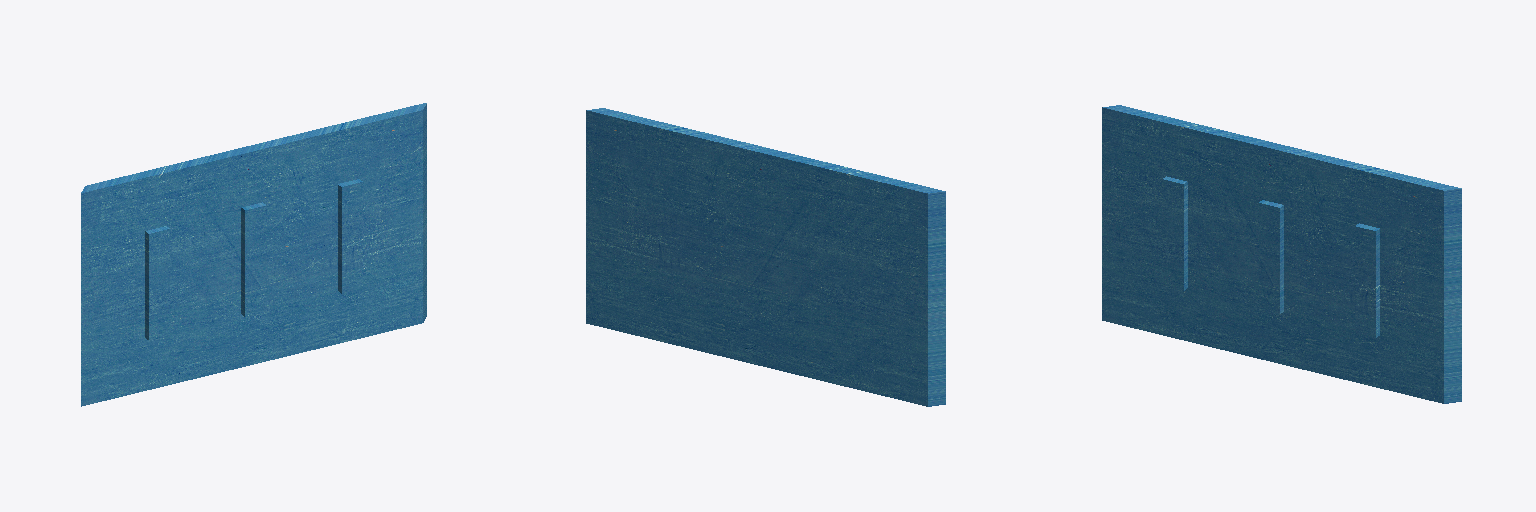
3 views of the same model, side by side, from view 1: azimuth 30°, elevation 25°; view 2: azimuth 150°, elevation 25°; view 3: azimuth 330°, elevation 25° (orthographic).
Visible parts, largest first — view 1: Cylinder.040; view 2: Cylinder.040; view 3: Cylinder.040.
Part boxes in pixels (x1,y1,x2,y2): Cylinder.040: (81,103,426,406); Cylinder.040: (586,108,945,406); Cylinder.040: (1102,105,1461,403).
Size of the model in its own units: 0.0225 by 0.013 by 0.0012.
Materials: 1 (1 with a texture image).